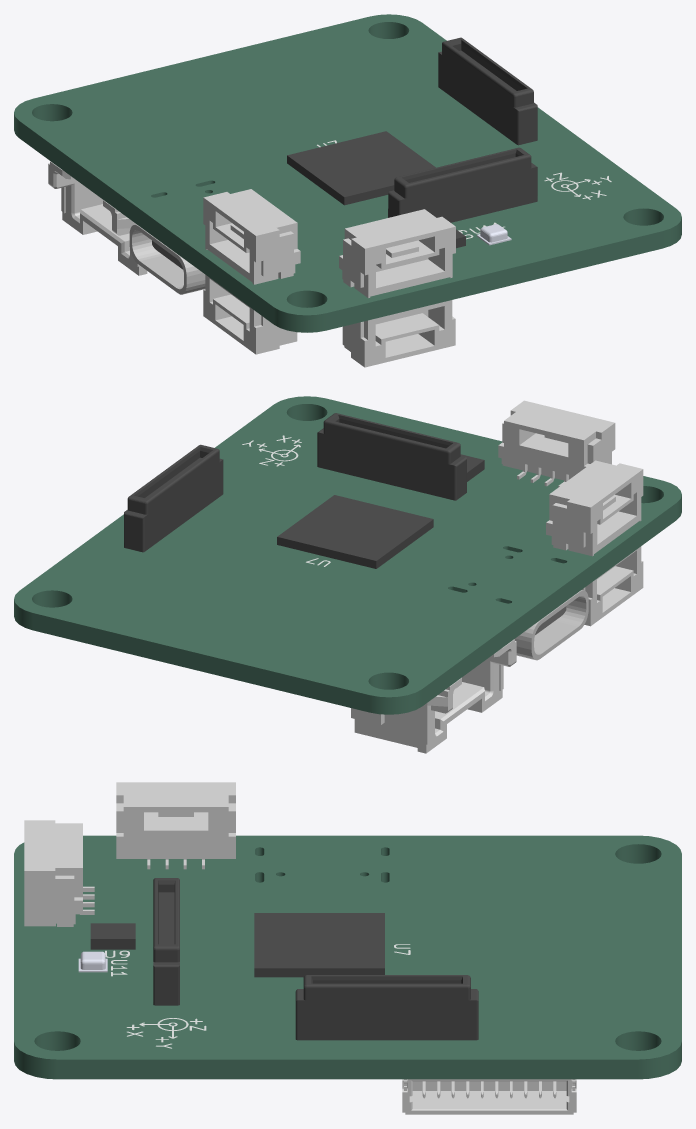
The model's file is 08053a23-mcxnt1hub.glb.
3 renders of one model, top to bottom at view 1: azimuth 30°, elevation 25°; view 2: azimuth 150°, elevation 25°; view 3: azimuth 270°, elevation 25°, orthographic. The views are drawn at different scales.
Parts seen in each view (by area): view 1: pcb, can1_a, j8, can0_a, j9, mcxn947vdft, can1_b, eth0, can0_b, usbc; view 2: pcb, j8, can1_a, mcxn947vdft, can0_a, j9, eth0, usbc, can0_b; view 3: pcb, j9, can0_a, mcxn947vdft, can1_a, debug, j8, icm45686, bmp581.
Boxes of the visible parts, left/top/right/bottom form: pcb: left=14, top=14, right=681, bottom=332; can1_a: left=339, top=209, right=455, bottom=298; j8: left=388, top=147, right=537, bottom=222; can0_a: left=203, top=189, right=300, bottom=284; j9: left=438, top=37, right=537, bottom=145; mcxn947vdft: left=287, top=131, right=435, bottom=205; can1_b: left=342, top=300, right=455, bottom=367; eth0: left=48, top=161, right=147, bottom=275; can0_b: left=203, top=275, right=297, bottom=354; usbc: left=129, top=224, right=205, bottom=294; pcb: left=14, top=396, right=681, bottom=714; j8: left=317, top=413, right=466, bottom=500; can1_a: left=498, top=400, right=615, bottom=487; mcxn947vdft: left=277, top=495, right=433, bottom=568; can0_a: left=546, top=460, right=643, bottom=556; j9: left=124, top=444, right=223, bottom=552; eth0: left=351, top=639, right=516, bottom=753; usbc: left=514, top=590, right=588, bottom=660; can0_b: left=582, top=546, right=643, bottom=626; pcb: left=14, top=835, right=681, bottom=1079; j9: left=295, top=975, right=478, bottom=1040; can0_a: left=116, top=782, right=235, bottom=869; mcxn947vdft: left=254, top=913, right=384, bottom=977; can1_a: left=24, top=820, right=94, bottom=926; debug: left=402, top=1079, right=576, bottom=1114; j8: left=153, top=878, right=179, bottom=1005; icm45686: left=90, top=923, right=135, bottom=949; bmp581: left=78, top=951, right=107, bottom=972.
Size of the model in its own units: 0.0365 by 0.0119 by 0.046.
